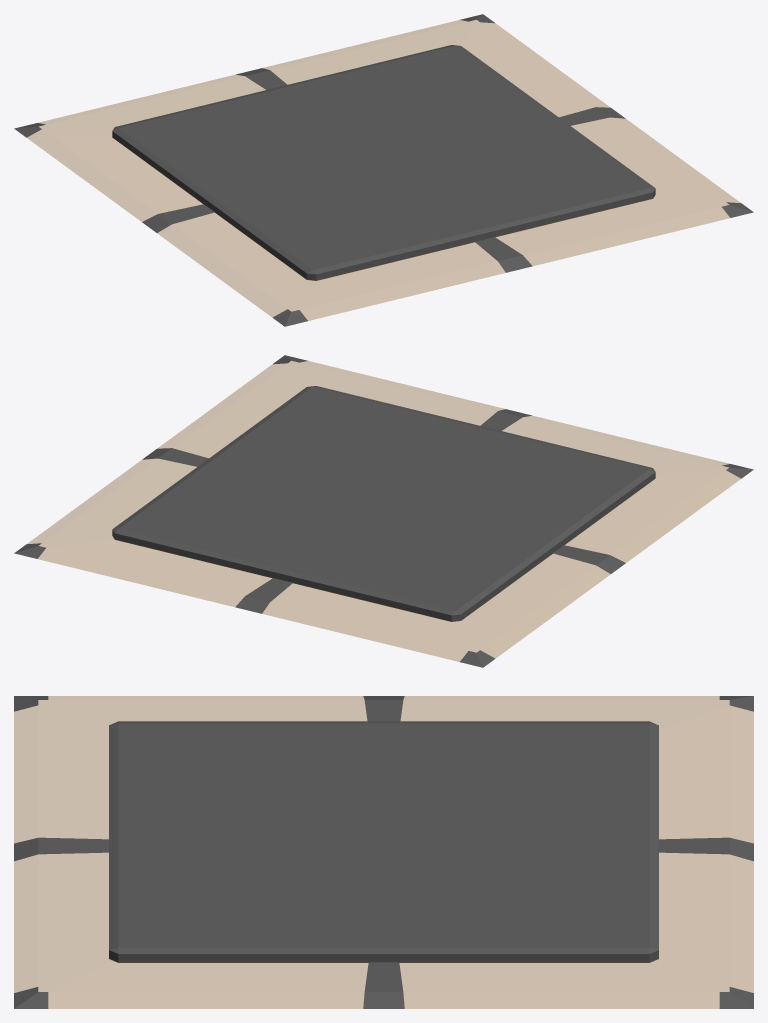
Rendered from PressurePlate.fbx.
The picture shows the model from 3 angles, top to bottom: view 1: azimuth 30°, elevation 25°; view 2: azimuth 150°, elevation 25°; view 3: azimuth 270°, elevation 25°; orthographic projection. The views are drawn at different scales.
Parts seen in each view (by area): view 1: Cube.001, Cube; view 2: Cube.001, Cube; view 3: Cube.001, Cube.
Part boxes in pixels (x1=…): Cube.001: x1=112, y1=45, x2=655, y2=280; Cube: x1=14, y1=14, x2=753, y2=326; Cube.001: x1=112, y1=386, x2=655, y2=621; Cube: x1=14, y1=355, x2=753, y2=667; Cube.001: x1=109, y1=721, x2=658, y2=962; Cube: x1=14, y1=696, x2=753, y2=1008.
Bounding box in the file's own units: 495 × 12.54 × 495.
